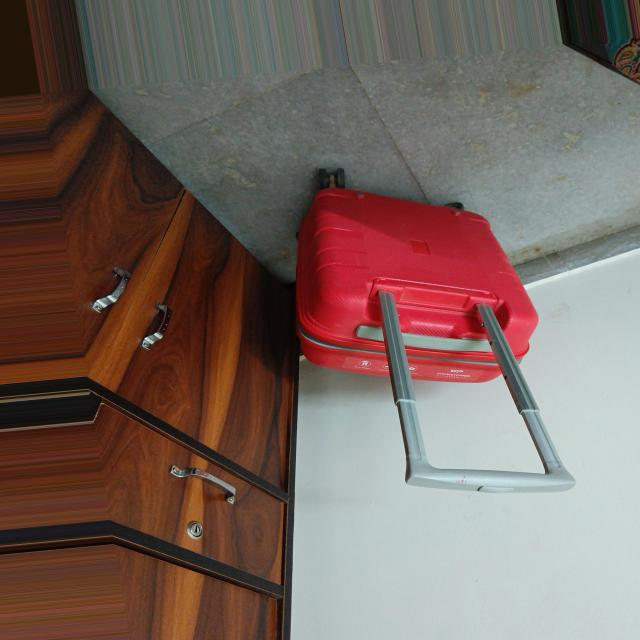Bag: (289, 155, 567, 512)
Handle: (366, 285, 569, 502)
